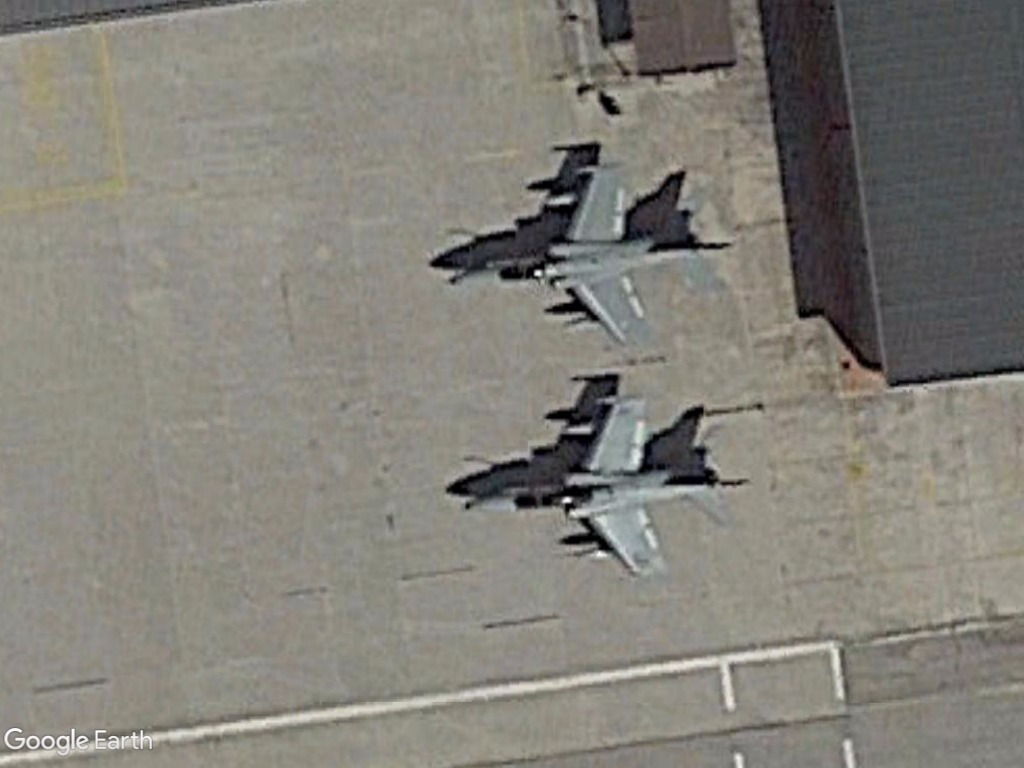fighter: (434, 156, 725, 369), (448, 381, 737, 593)
